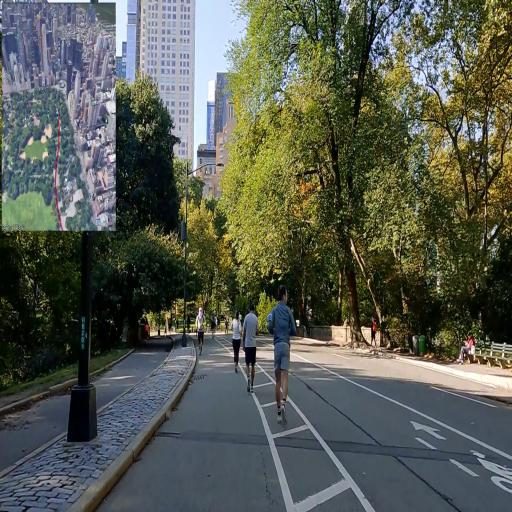Street_Light: (179, 159, 226, 354)
